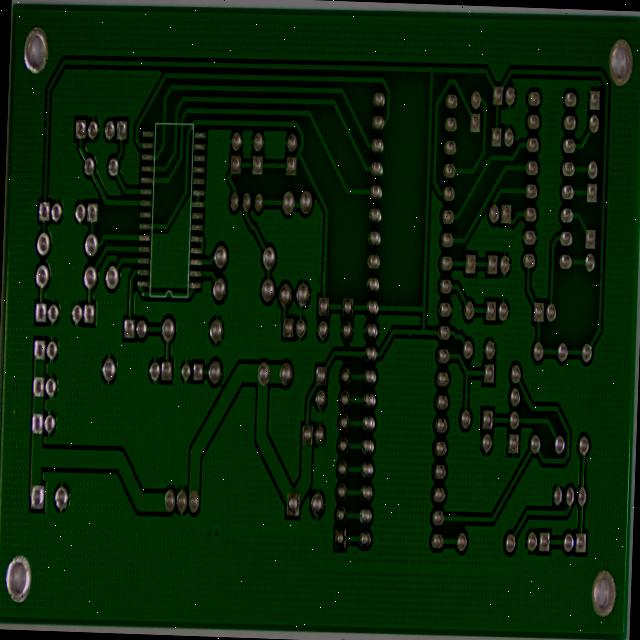spur: (547, 345, 559, 361), (486, 339, 495, 360), (427, 269, 436, 283)
